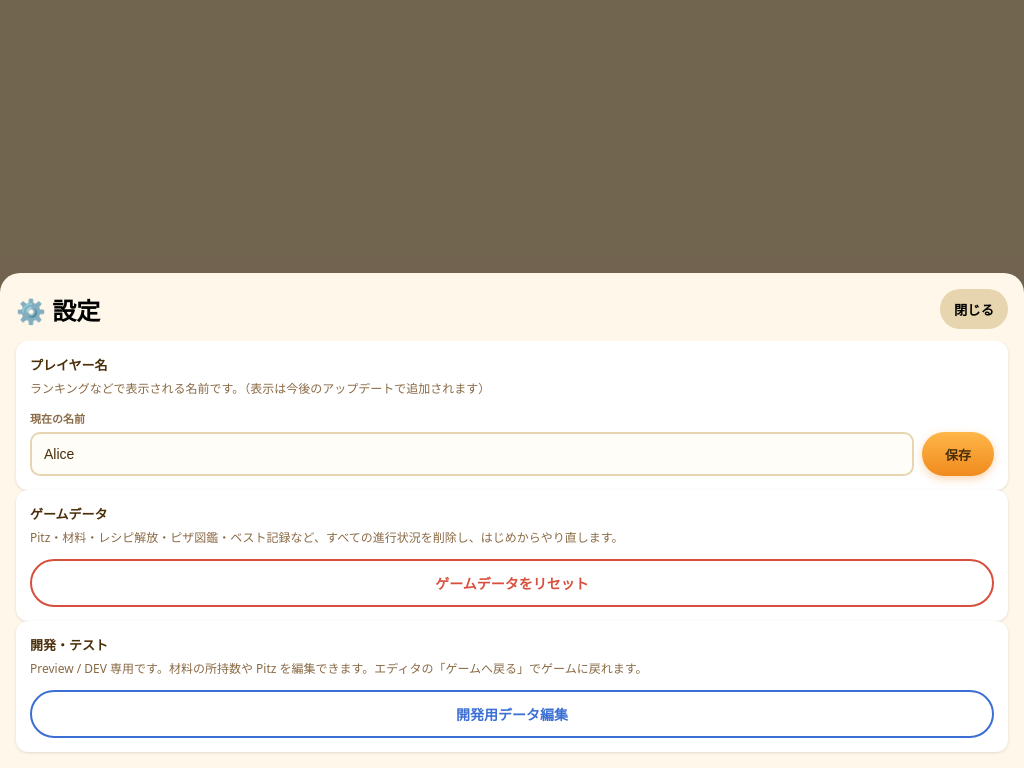
SettingsOverlay -- プレイヤー名 › cooldown: shows a cooldown message when the server rejects a too-soon rename
Replace the text in the field labelled "現在の名前" with "Bob" at (472, 454), box [30,432,914,476]
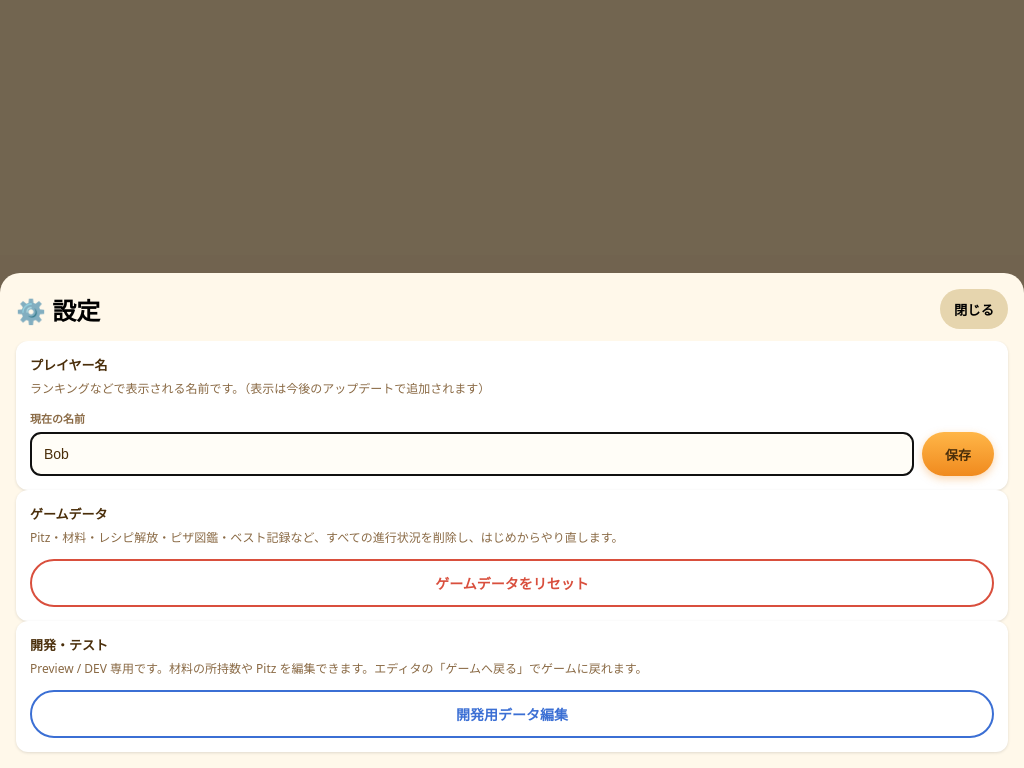
Click the button "保存".
click(958, 454)  # box [922,432,994,476]
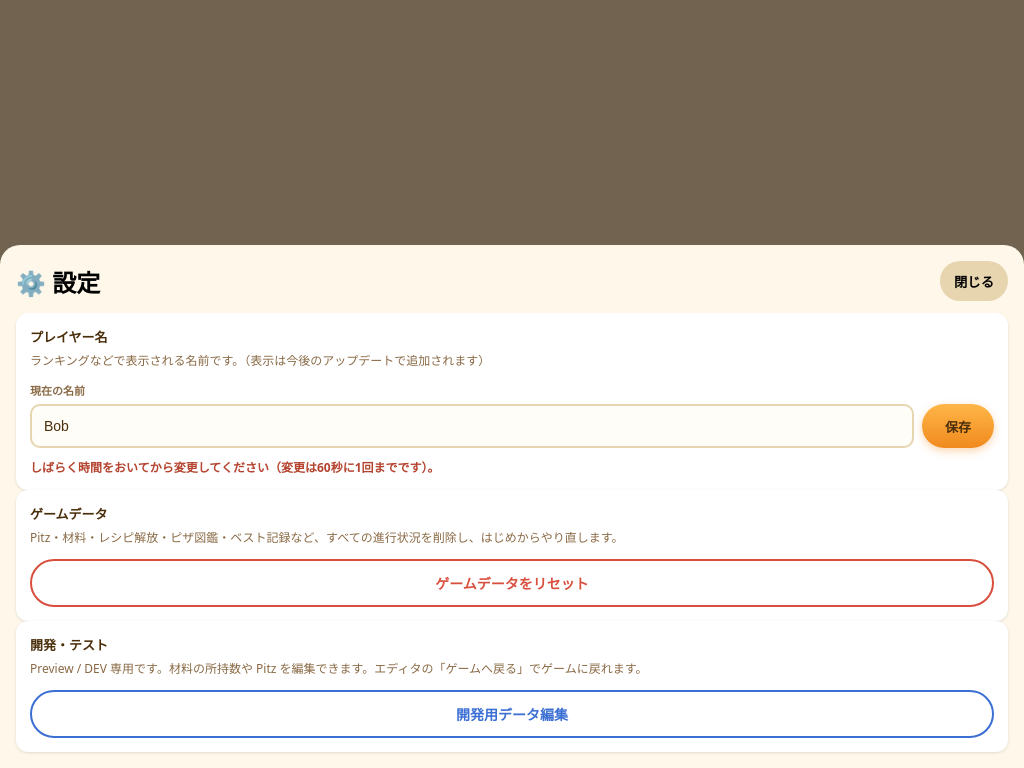
Expected: the text "しばらく時間をおいてから変更してください（変更は60秒に1回までです）。" is shown, [30,459,440,476]
